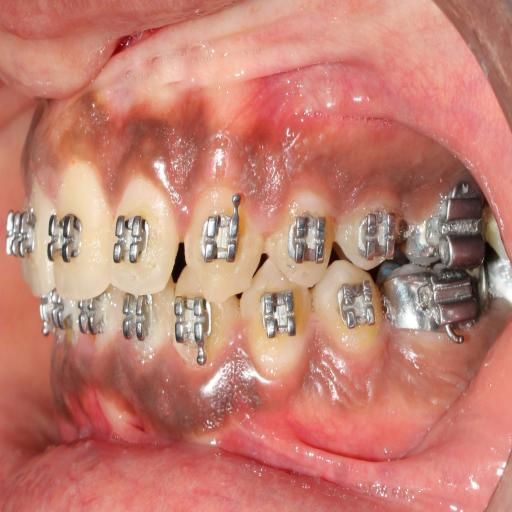correct_brace: (270, 189, 340, 287), (112, 204, 151, 272), (198, 209, 242, 269), (47, 204, 82, 264)
incorrect_brace: (111, 164, 175, 297), (287, 204, 329, 274)
